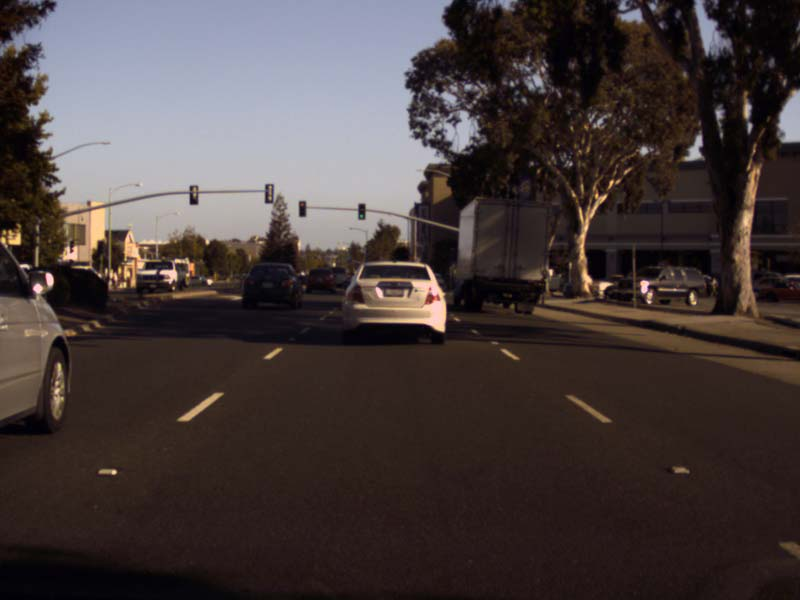Green: (358, 204, 364, 218)
Red: (298, 200, 306, 217)
